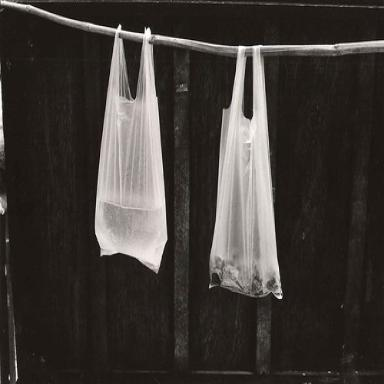plasticbag: (207, 34, 284, 302), (93, 20, 167, 275)
